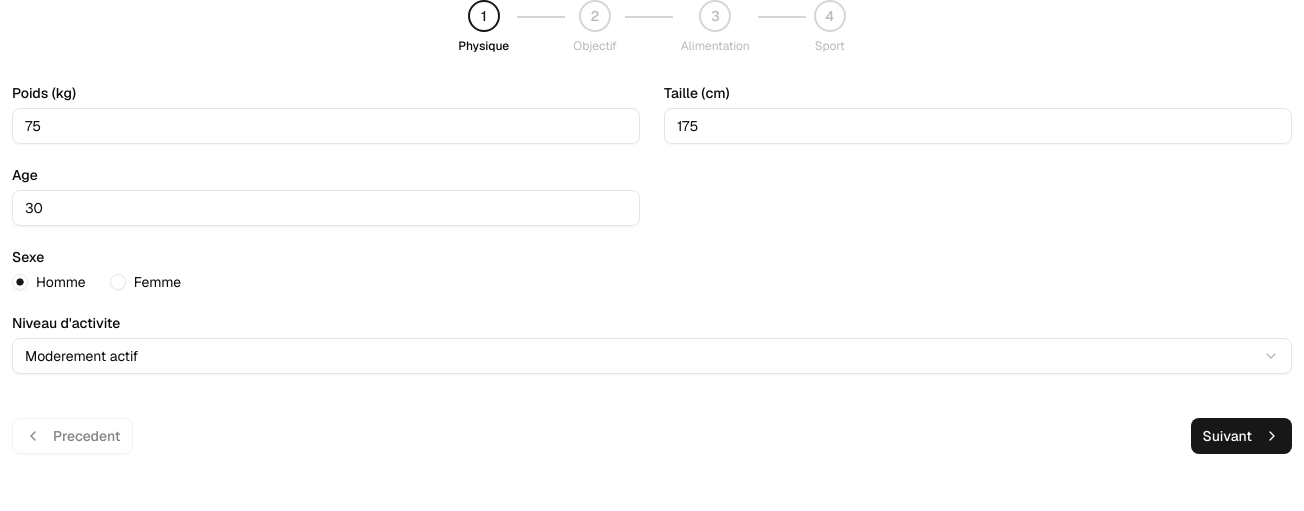
OnboardingWizard › advances to step 2 after step 1 validation passes and clicking 'Suivant'
Click Suivant
Click the button "Suivant".
click(1241, 436)  # box 1190,418 -> 1292,454
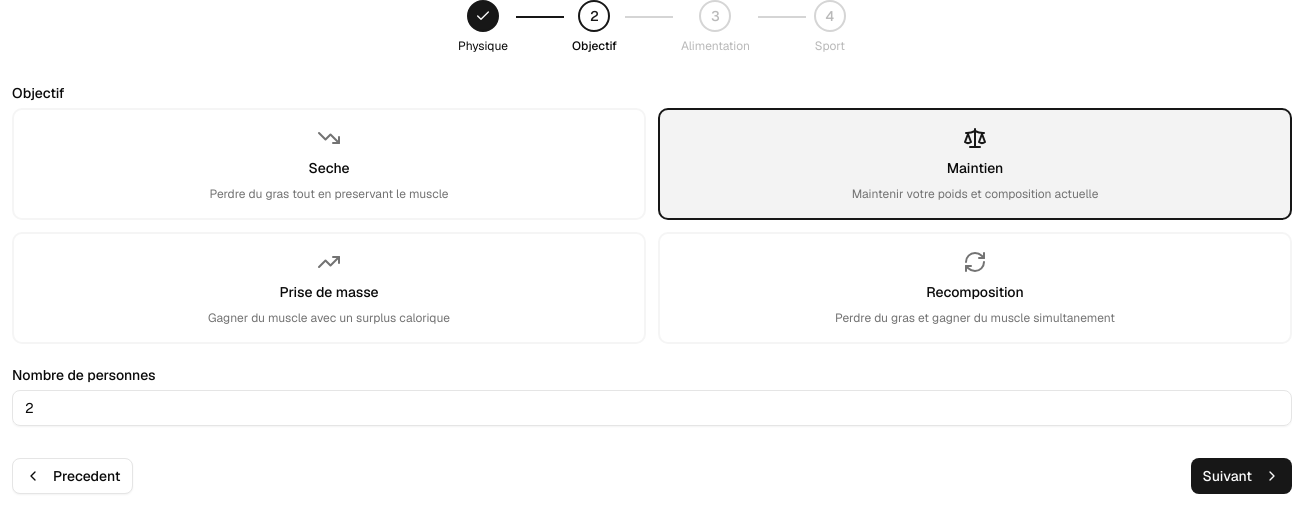
Expected: the text "Nombre de personnes" is shown, 12,366 -> 156,384
Expected: the text "Poids (kg)" is gone
